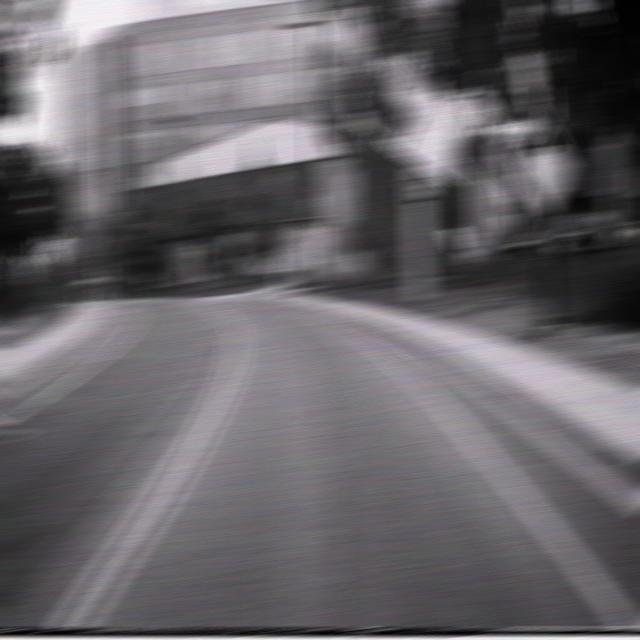stop: (288, 220, 310, 243)
